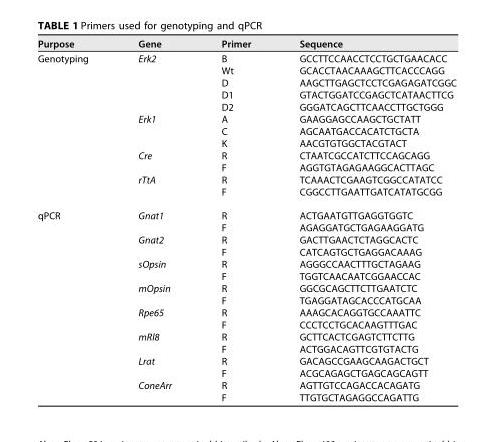table: (37, 37, 455, 402)
table column: (274, 37, 455, 402), (112, 37, 195, 402), (195, 37, 274, 402), (37, 37, 112, 402)
table column header: (37, 37, 455, 50)
table row: (37, 185, 455, 203), (37, 203, 455, 221), (37, 37, 455, 50), (37, 50, 455, 63), (37, 63, 455, 76), (37, 148, 455, 161), (37, 293, 455, 306), (37, 76, 455, 88), (37, 88, 455, 100), (37, 100, 455, 112), (37, 112, 455, 124), (37, 124, 455, 136), (37, 136, 455, 148), (37, 161, 455, 173), (37, 173, 455, 185), (37, 221, 455, 233), (37, 233, 455, 245), (37, 245, 455, 257), (37, 257, 455, 269), (37, 269, 455, 281), (37, 281, 455, 293), (37, 306, 455, 318), (37, 318, 455, 330), (37, 330, 455, 342), (37, 342, 455, 354), (37, 354, 455, 366), (37, 366, 455, 378), (37, 378, 455, 390), (37, 390, 455, 402)
table spanning cell: (37, 203, 112, 402), (37, 50, 112, 203)
